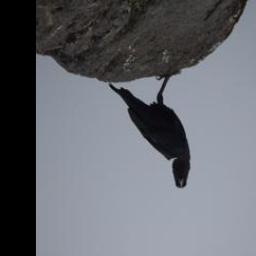Crow: (109, 72, 193, 191)
